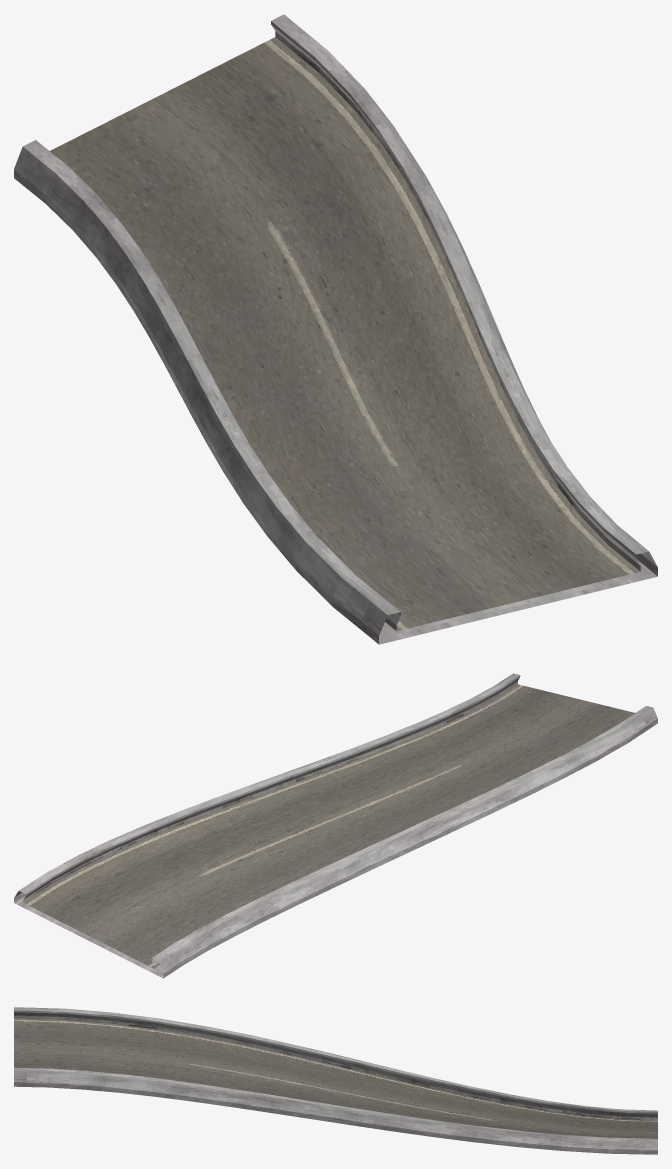
The model's file is chicane-right1x4.glb.
3 renders of one model, top to bottom at view 1: azimuth 30°, elevation 25°; view 2: azimuth 150°, elevation 25°; view 3: azimuth 270°, elevation 25°, orthographic. The views are drawn at different scales.
Visible parts, largest first — view 1: road-Chicane-Flat-HalfBankedLeft-Down1-Right1-Size4; view 2: road-Chicane-Flat-HalfBankedLeft-Down1-Right1-Size4; view 3: road-Chicane-Flat-HalfBankedLeft-Down1-Right1-Size4.
Boxes of the visible parts, bbox=[...] form: road-Chicane-Flat-HalfBankedLeft-Down1-Right1-Size4: bbox=[14, 14, 657, 644]; road-Chicane-Flat-HalfBankedLeft-Down1-Right1-Size4: bbox=[14, 673, 657, 978]; road-Chicane-Flat-HalfBankedLeft-Down1-Right1-Size4: bbox=[14, 1007, 657, 1154].
Size of the model in its own units: 2 by 0.3437 by 4.
2 materials, 2 textured.
